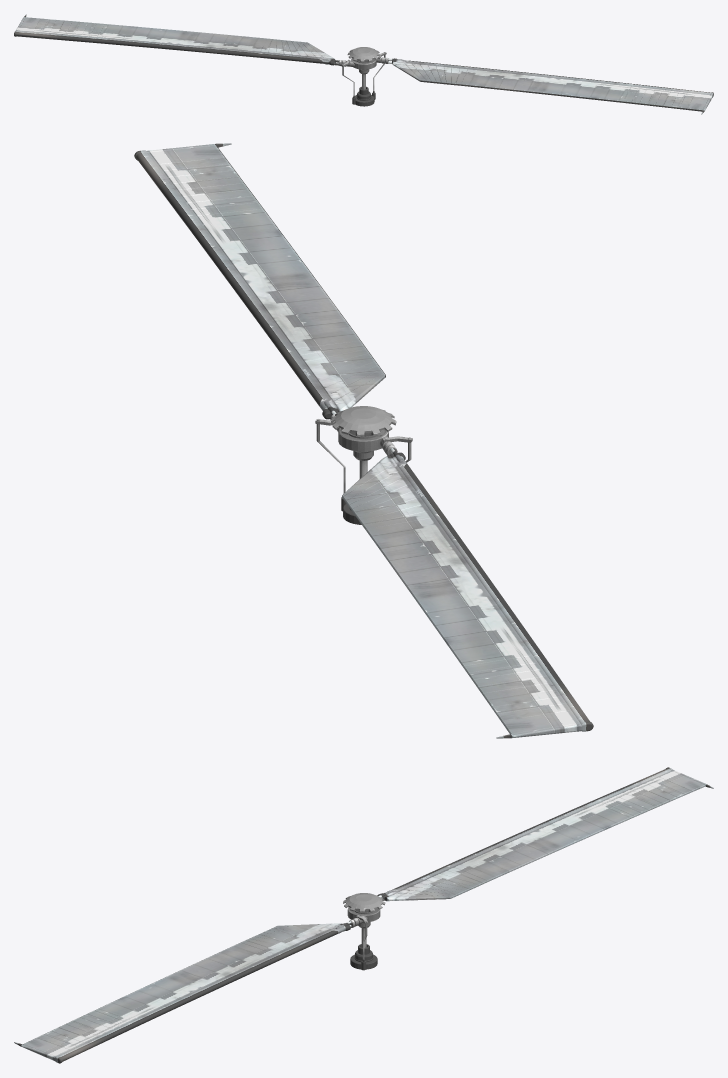
The model's file is mainrotor.obj.
The picture shows the model from 3 angles, top to bottom: view 1: azimuth 30°, elevation 25°; view 2: azimuth 150°, elevation 25°; view 3: azimuth 270°, elevation 25°; orthographic projection. The views are drawn at different scales.
Visible parts, largest first — view 1: Bell222_M_ROTOR_Null_Bell222_Fbx_Root_Bell222_M_Rotor_Blad_M_Ro, Bell222_M_ROTOR_Null_Bell222_Fbx_Root; view 2: Bell222_M_ROTOR_Null_Bell222_Fbx_Root_Bell222_M_Rotor_Blad_M_Ro, Bell222_M_ROTOR_Null_Bell222_Fbx_Root; view 3: Bell222_M_ROTOR_Null_Bell222_Fbx_Root_Bell222_M_Rotor_Blad_M_Ro, Bell222_M_ROTOR_Null_Bell222_Fbx_Root.
Part boxes in pixels (<box>): Bell222_M_ROTOR_Null_Bell222_Fbx_Root_Bell222_M_Rotor_Blad_M_Ro: <box>18,17,710,111</box>; Bell222_M_ROTOR_Null_Bell222_Fbx_Root: <box>14,14,713,114</box>; Bell222_M_ROTOR_Null_Bell222_Fbx_Root_Bell222_M_Rotor_Blad_M_Ro: <box>147,145,579,734</box>; Bell222_M_ROTOR_Null_Bell222_Fbx_Root: <box>134,143,593,738</box>; Bell222_M_ROTOR_Null_Bell222_Fbx_Root_Bell222_M_Rotor_Blad_M_Ro: <box>23,770,705,1056</box>; Bell222_M_ROTOR_Null_Bell222_Fbx_Root: <box>14,767,713,1063</box>.
Size of the model in its own units: 18.65 by 1.97 by 18.88.
Materials: 3 (2 with a texture image).
